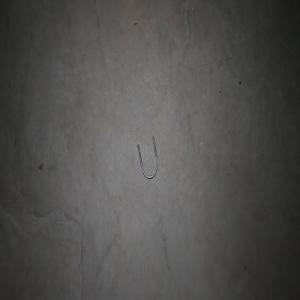ClampPart: (136, 134, 158, 179)
